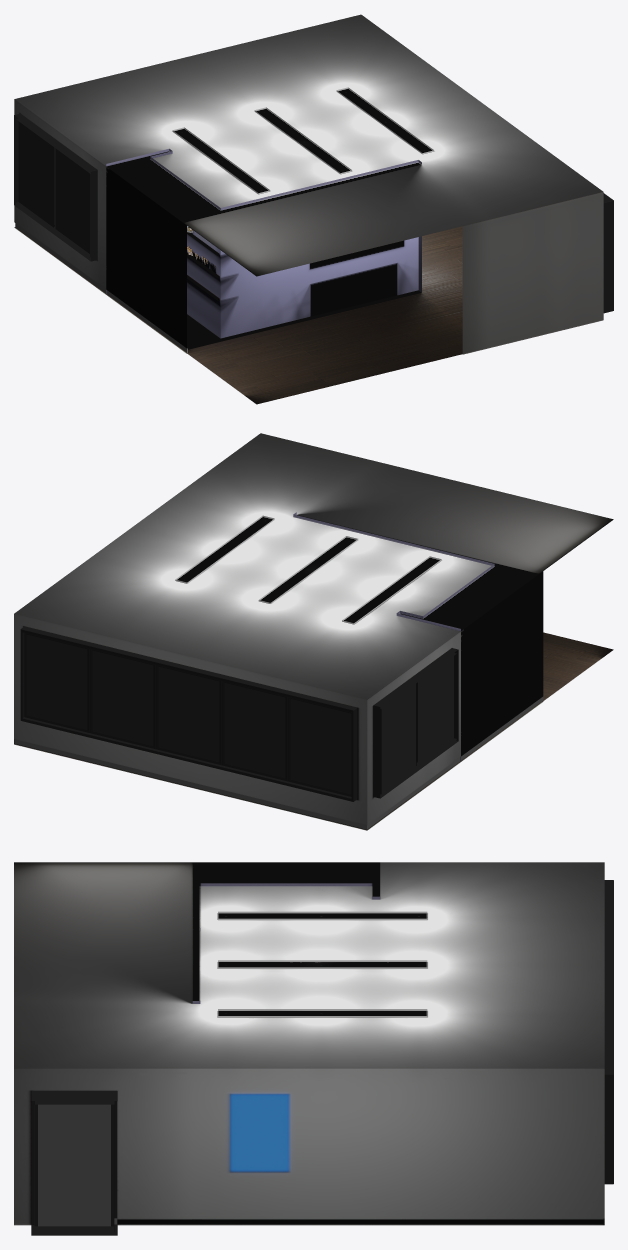
File: L4- Desk Setup- Pilot+ICAA_v2.fbx
3 renders of one model, top to bottom at view 1: azimuth 30°, elevation 25°; view 2: azimuth 150°, elevation 25°; view 3: azimuth 270°, elevation 25°, orthographic. The views are drawn at different scales.
Parts seen in each view (by area): view 1: Plane.015_Wall_0, Plane.013_Floor_0, Plane.002_White_0, Plane.020_Window Glass_0, Plane.010_Black Frame Window_0, Plane.011_Black Frame Window_0, Cube.001_Light Fixture_0, Plane.015_Wall Rim_0; view 2: Plane.015_Wall_0, Plane.004_Window Glass.001_0, Plane.020_Window Glass_0, Plane.003_Black Frame Window_0, Plane.004_Black Frame Window.001_0, Plane.013_Floor_0, Plane.015_Wall Rim_0, Plane.010_Black Frame Window_0, Plane.002_White_0, Cube.001_Light Fixture_0; view 3: Plane.015_Wall_0, Plane.012_Bathroom door opaque_0, Plane.011_Black Frame Window_0, Plane.003_Black Frame Window_0, Cube.001_Light Fixture_0, Plane.012_Black Frame Window_0, Plane.002_White_0.
Boxes of the visible parts, x1=… form: Plane.015_Wall_0: x1=14, y1=14, x2=603, y2=354; Plane.013_Floor_0: x1=14, y1=226, x2=462, y2=404; Plane.002_White_0: x1=106, y1=148, x2=421, y2=338; Plane.020_Window Glass_0: x1=18, y1=121, x2=89, y2=253; Plane.010_Black Frame Window_0: x1=14, y1=113, x2=97, y2=261; Plane.011_Black Frame Window_0: x1=603, y1=193, x2=613, y2=313; Cube.001_Light Fixture_0: x1=172, y1=87, x2=434, y2=194; Plane.015_Wall Rim_0: x1=15, y1=223, x2=186, y2=352; Plane.015_Wall_0: x1=14, y1=433, x2=613, y2=830; Plane.004_Window Glass.001_0: x1=26, y1=634, x2=351, y2=794; Plane.020_Window Glass_0: x1=381, y1=656, x2=453, y2=790; Plane.003_Black Frame Window_0: x1=20, y1=626, x2=357, y2=801; Plane.004_Black Frame Window.001_0: x1=24, y1=633, x2=351, y2=796; Plane.013_Floor_0: x1=14, y1=632, x2=613, y2=829; Plane.015_Wall Rim_0: x1=14, y1=697, x2=542, y2=830; Plane.010_Black Frame Window_0: x1=373, y1=648, x2=458, y2=798; Plane.002_White_0: x1=293, y1=512, x2=494, y2=761; Cube.001_Light Fixture_0: x1=175, y1=515, x2=441, y2=624; Plane.015_Wall_0: x1=14, y1=862, x2=604, y2=1225; Plane.012_Bathroom door opaque_0: x1=38, y1=1104, x2=110, y2=1226; Plane.011_Black Frame Window_0: x1=31, y1=1090, x2=117, y2=1235; Plane.003_Black Frame Window_0: x1=604, y1=880, x2=613, y2=1184; Cube.001_Light Fixture_0: x1=218, y1=911, x2=427, y2=1017; Plane.012_Black Frame Window_0: x1=34, y1=1101, x2=114, y2=1227; Plane.002_White_0: x1=192, y1=883, x2=380, y2=1003.
Bounding box in the file's own units: 881 × 298 × 1013.
